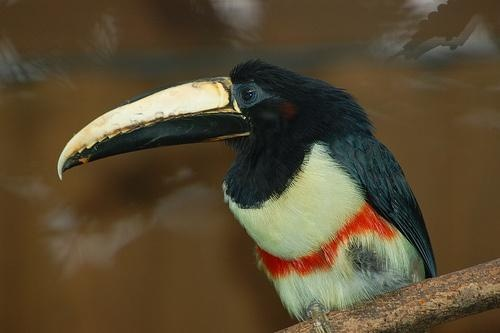bird: (55, 56, 439, 326)
